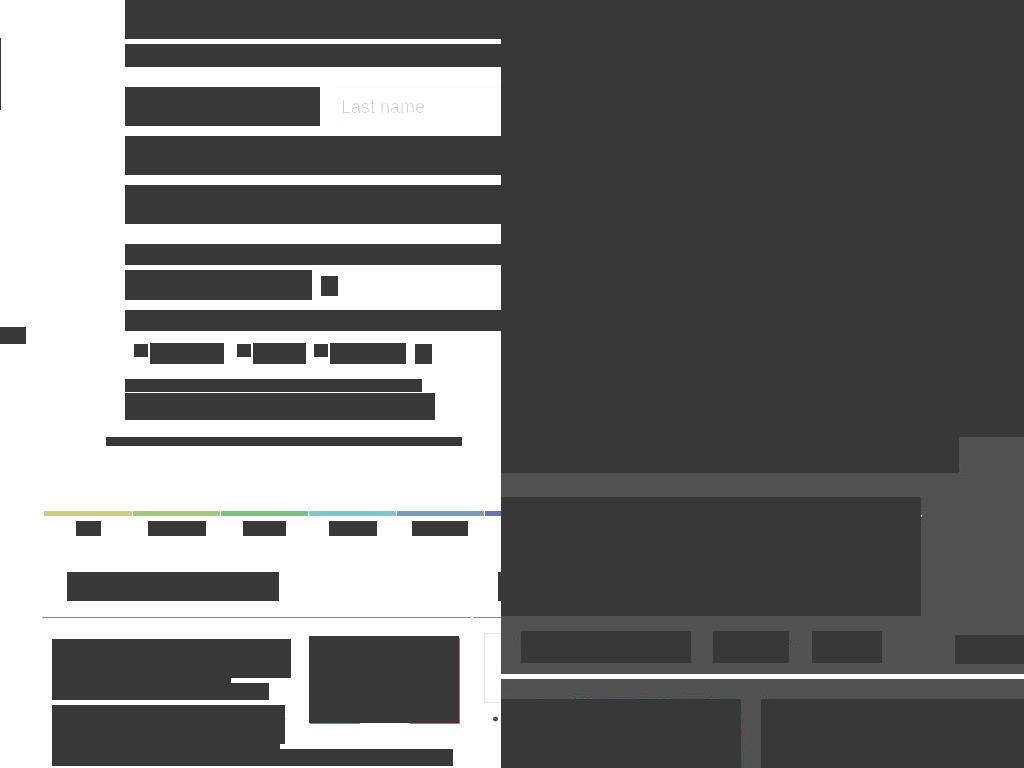button: (535, 406, 730, 437), (521, 631, 691, 663), (760, 406, 913, 437), (713, 631, 789, 663), (812, 631, 882, 663), (321, 276, 338, 296), (415, 344, 432, 364)
field: (125, 136, 501, 175), (125, 185, 501, 224), (125, 87, 320, 126), (330, 87, 501, 126), (125, 270, 195, 300), (250, 270, 312, 300), (194, 270, 251, 300), (134, 344, 148, 357), (237, 344, 251, 357), (314, 344, 328, 357)
heading: (535, 125, 932, 387), (501, 497, 921, 616), (125, 0, 501, 39)
image: (501, 66, 1024, 437), (501, 0, 1024, 66), (761, 699, 1024, 768), (765, 699, 1024, 768), (501, 437, 959, 473), (309, 636, 459, 723), (596, 0, 673, 56), (321, 276, 338, 293), (415, 344, 432, 361)
label: (955, 635, 1024, 664), (330, 343, 406, 364), (150, 343, 224, 364), (253, 343, 306, 364)
link: (52, 661, 231, 700), (52, 705, 161, 722), (120, 749, 223, 766), (125, 727, 224, 744), (302, 437, 458, 446), (325, 749, 394, 766), (125, 393, 197, 406), (52, 639, 99, 656), (140, 683, 184, 700), (345, 379, 402, 392), (402, 749, 441, 766), (309, 379, 340, 392), (228, 437, 263, 446)
text: (52, 639, 291, 678), (52, 705, 285, 744), (52, 727, 280, 766), (125, 44, 501, 67), (125, 393, 435, 420), (125, 244, 501, 265), (125, 310, 501, 331), (680, 5, 1024, 27), (67, 572, 279, 601), (560, 418, 705, 436), (125, 379, 309, 392), (785, 418, 888, 436), (223, 749, 327, 766), (99, 639, 187, 656), (183, 683, 269, 700), (106, 437, 229, 446), (148, 521, 206, 536), (123, 661, 174, 678), (412, 521, 468, 536), (329, 521, 377, 536), (243, 521, 286, 536), (76, 521, 101, 536), (261, 437, 302, 446), (400, 379, 422, 392), (440, 749, 453, 766), (394, 749, 403, 766), (339, 379, 346, 392), (456, 437, 462, 446)
